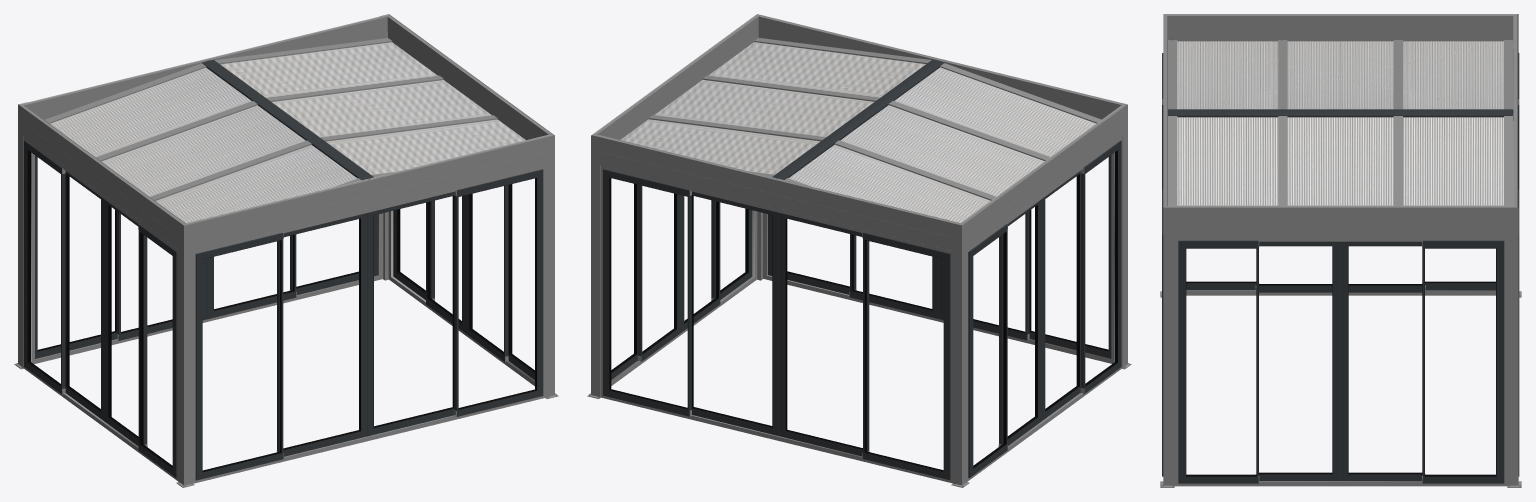
3 renders of one model, left to right at view 1: azimuth 30°, elevation 25°; view 2: azimuth 150°, elevation 25°; view 3: azimuth 270°, elevation 25°, orthographic. The views are drawn at different scales.
Parts seen in each view (by area): view 1: policarbonato, caleira, pilar (×2), travessa (×2), aroFIXO, Plane004, Plane001, Plane003, Plane002, Plane013, Plane011, Plane010 (+23 smaller); view 2: policarbonato, caleira, travessa (×2), pilar001, aroFIXO003, Plane018, Plane021, Plane020, Plane019, pilar002, Plane010, aroFIXO001 (+23 smaller); view 3: policarbonato, caleira, travessa (×2), aroFIXO002, Plane017, Plane014, pilar, pilar002, Plane015, Plane016, travessa-central, aroFIXO001 (+10 smaller).
Part boxes in pixels (<box>): policarbonato: <box>50,42,525,222</box>; caleira: <box>19,14,554,251</box>; pilar (×2): <box>178,135,554,485</box>; travessa (×2): <box>45,38,497,200</box>; aroFIXO: <box>193,165,545,483</box>; Plane004: <box>195,232,283,480</box>; Plane001: <box>455,169,543,416</box>; Plane003: <box>277,213,367,456</box>; Plane002: <box>367,192,454,436</box>; Plane013: <box>24,140,65,394</box>; Plane011: <box>104,200,147,445</box>; Plane010: <box>138,224,177,477</box>; policarbonato: <box>620,42,1095,222</box>; caleira: <box>591,14,1127,250</box>; travessa (×2): <box>648,37,1101,200</box>; pilar001: <box>952,222,967,485</box>; aroFIXO003: <box>601,165,952,483</box>; Plane018: <box>603,169,691,416</box>; Plane021: <box>863,232,950,480</box>; Plane020: <box>779,213,869,456</box>; Plane019: <box>691,191,778,435</box>; pilar002: <box>591,135,600,396</box>; Plane010: <box>1081,140,1121,393</box>; aroFIXO001: <box>967,136,1122,481</box>; policarbonato: <box>1177,41,1503,205</box>; caleira: <box>1163,14,1517,237</box>; travessa (×2): <box>1168,40,1512,205</box>; aroFIXO002: <box>1174,237,1507,486</box>; Plane017: <box>1422,240,1504,483</box>; Plane014: <box>1178,240,1258,483</box>; pilar: <box>1163,208,1174,486</box>; pilar002: <box>1507,208,1518,486</box>; Plane015: <box>1258,241,1340,481</box>; Plane016: <box>1340,241,1422,481</box>; travessa-central: <box>1167,109,1513,120</box>; aroFIXO001: <box>1186,290,1495,295</box>.
Size of the model in its own units: 405 by 269 by 315.
Materials: 6 (3 with a texture image).
